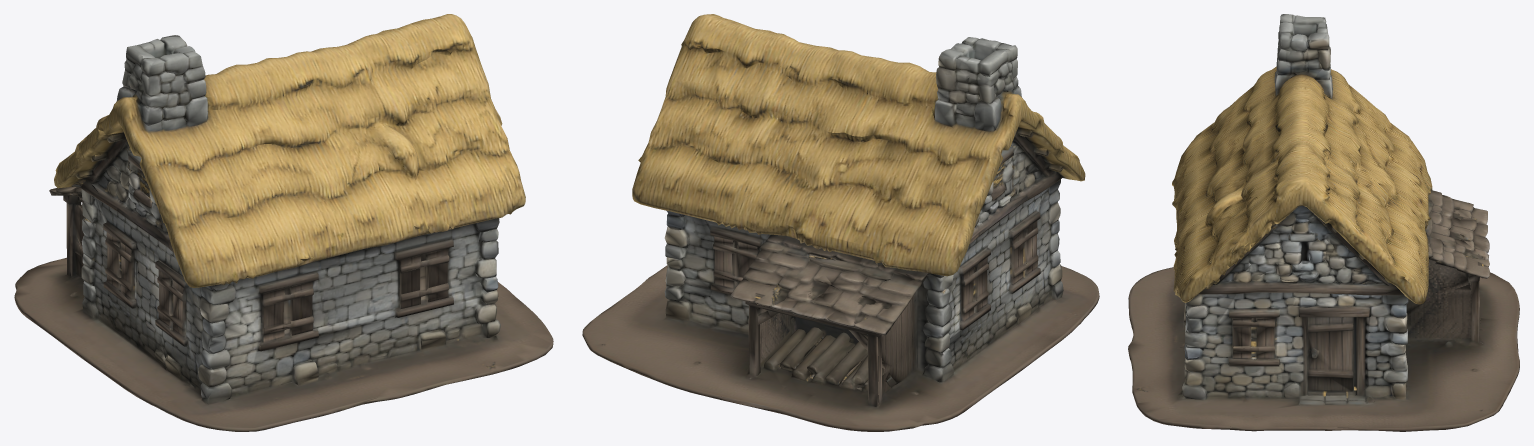
The picture shows the model from 3 angles, left to right: view 1: azimuth 30°, elevation 25°; view 2: azimuth 150°, elevation 25°; view 3: azimuth 270°, elevation 25°; orthographic projection. The views are drawn at different scales.
Parts seen in each view (by area): view 1: repaired; view 2: repaired; view 3: repaired.
Part boxes in pixels (bbox=[...]): repaired: bbox=[14, 14, 553, 431]; repaired: bbox=[582, 14, 1099, 431]; repaired: bbox=[1128, 14, 1519, 431].
Bounding box in the file's own units: 0.9949 × 0.7611 × 0.9989.
Materials: 1 (1 with a texture image).
